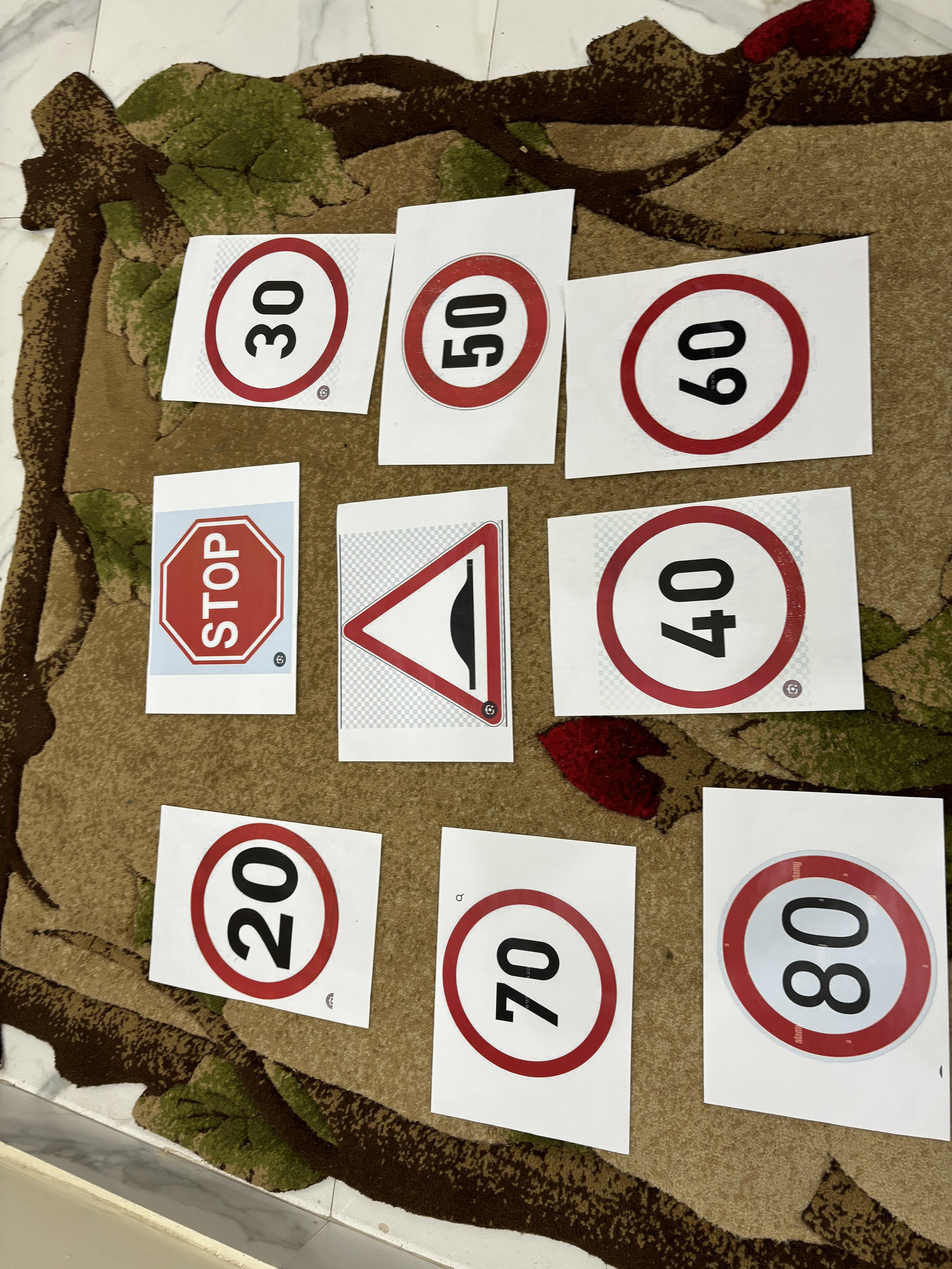20-Speed: (189, 814, 344, 1009)
30-speed: (192, 229, 354, 408)
40-Speed: (594, 500, 808, 712)
50-Speed: (392, 249, 548, 412)
60-Speed: (616, 269, 817, 463)
70-Speed: (429, 878, 621, 1082)
80-Speed: (716, 838, 943, 1068)
Hump: (340, 520, 507, 737)
Stop: (154, 500, 290, 673)
